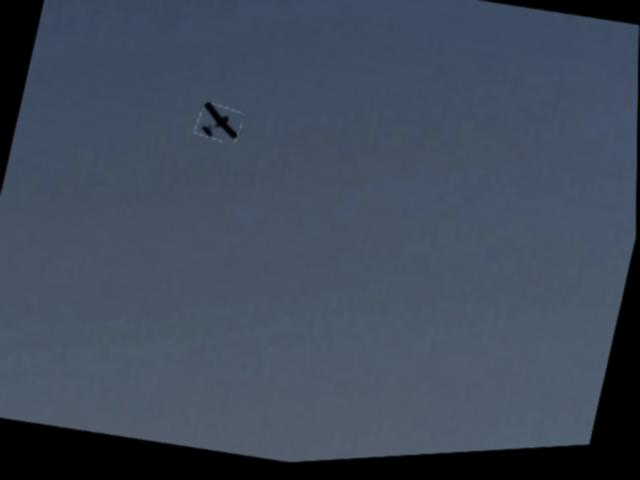insansiz-hava-araci: (194, 103, 246, 149)
